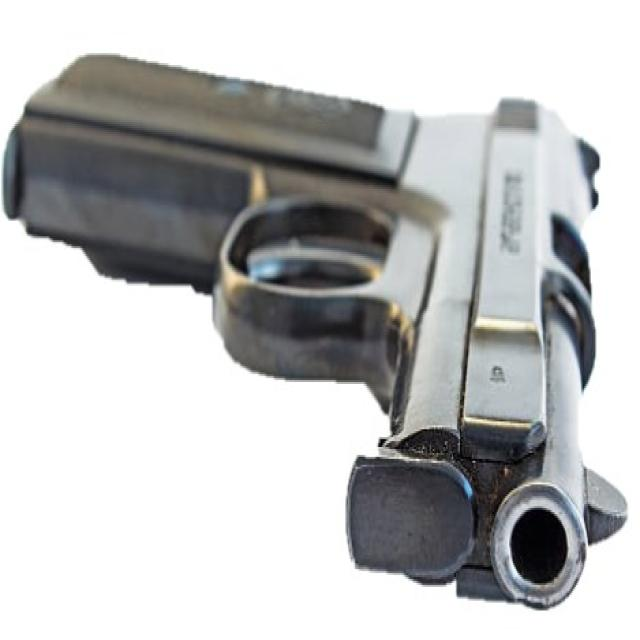pistol: (1, 46, 631, 618)
